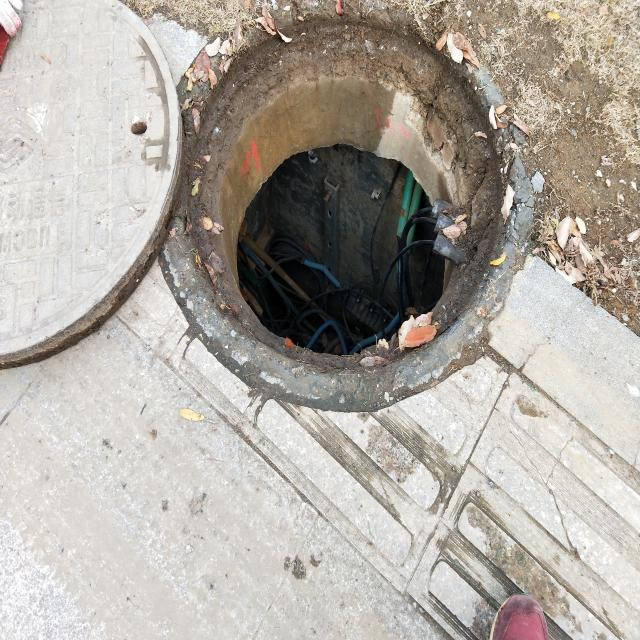Lose: (2, 0, 530, 412)
